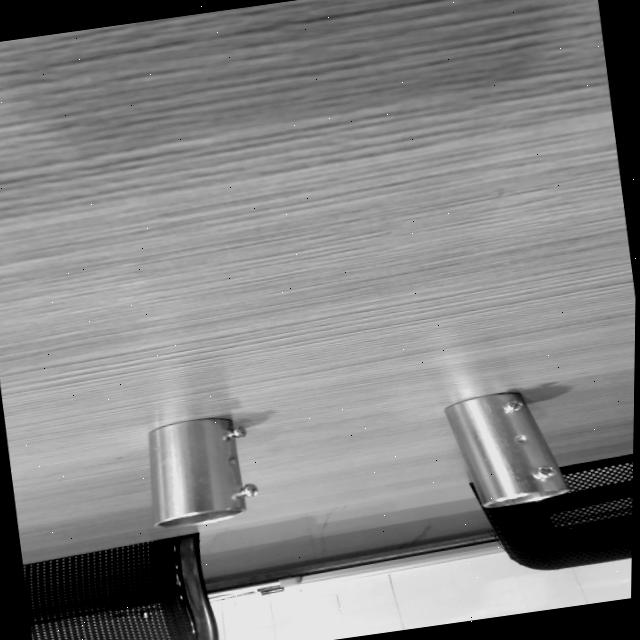Co_Lon: (438, 375, 570, 527)
Co_Nho: (141, 413, 261, 531)
